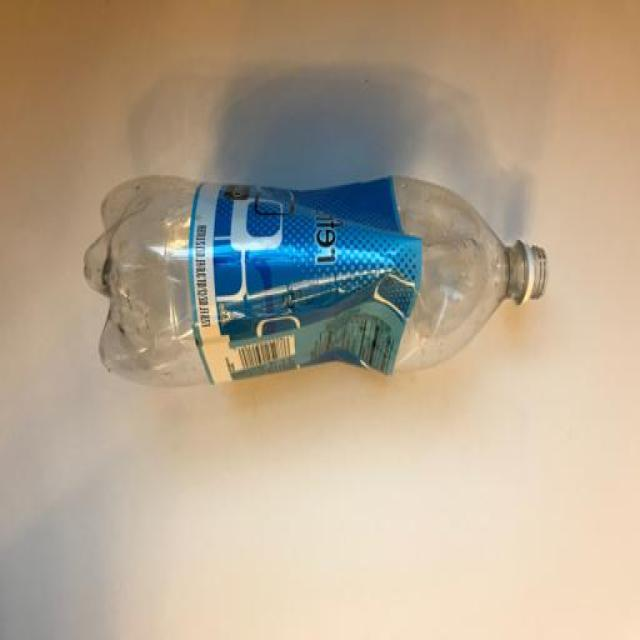plastic: (79, 168, 550, 394)
